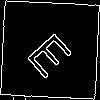E: (25, 25, 81, 80)
